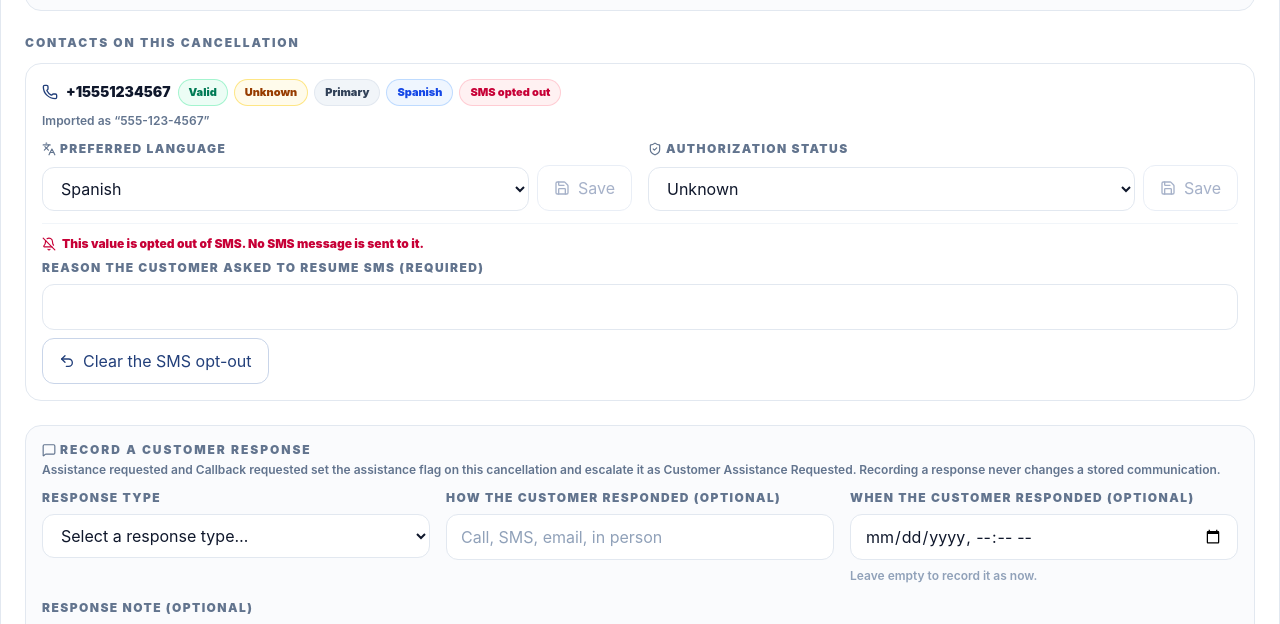
Scenario: CancellationContactPanel › refuses to clear an opt-out with blank reason text and writes nothing
The image size is (1280, 624).
(page scrolled)
Click the button "Clear the SMS opt-out" at [155, 360], box [42,338,268,384]
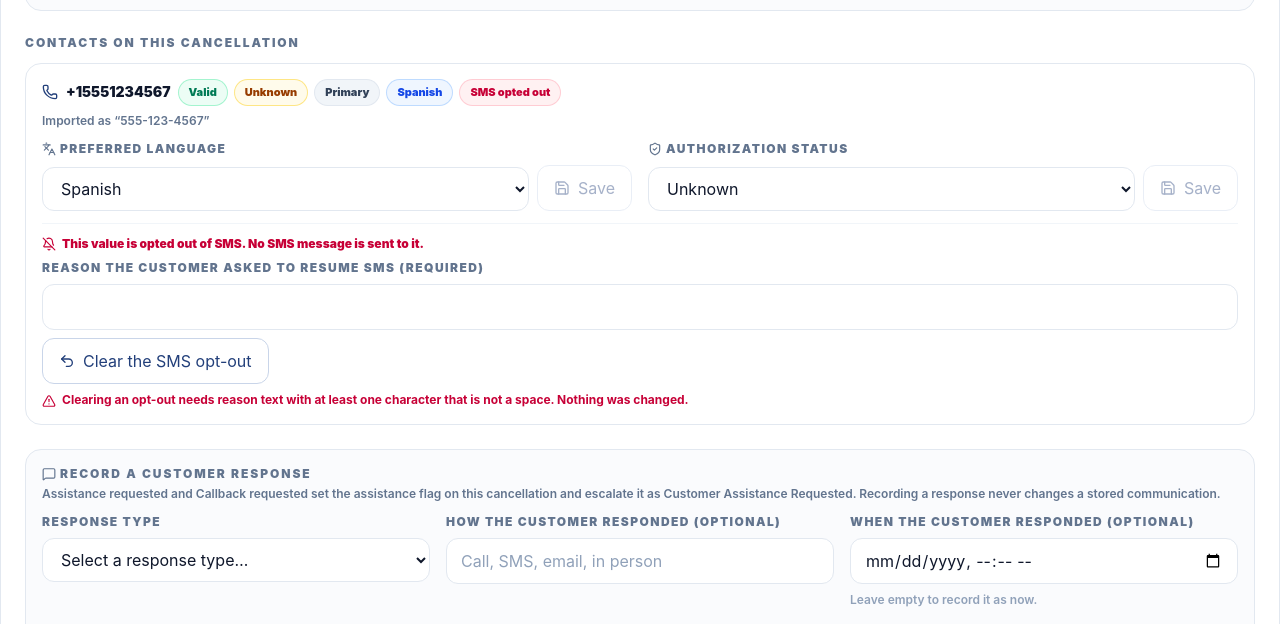
Check: the message shows "at least one character that is not a space", box [62,392,689,406]
